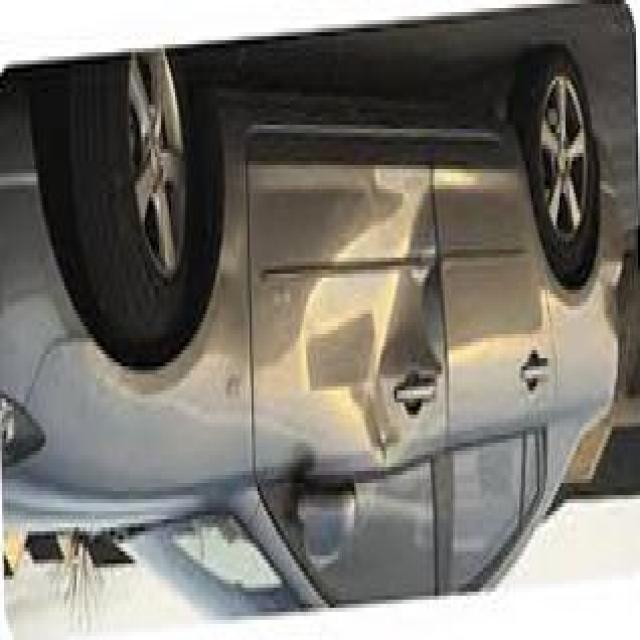dent: (296, 153, 449, 459)
